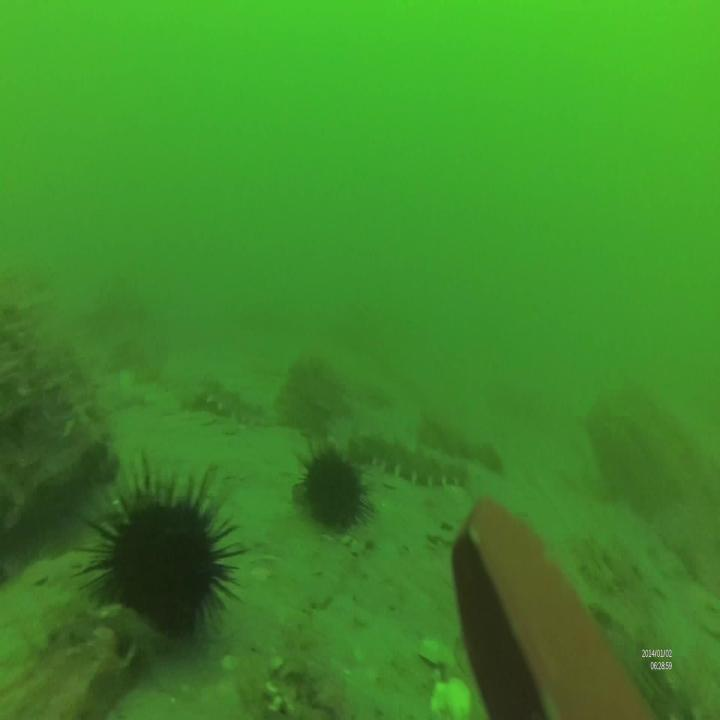echinus: (76, 452, 246, 644), (298, 435, 376, 534)
holothurian: (359, 428, 469, 489), (192, 370, 274, 429)
